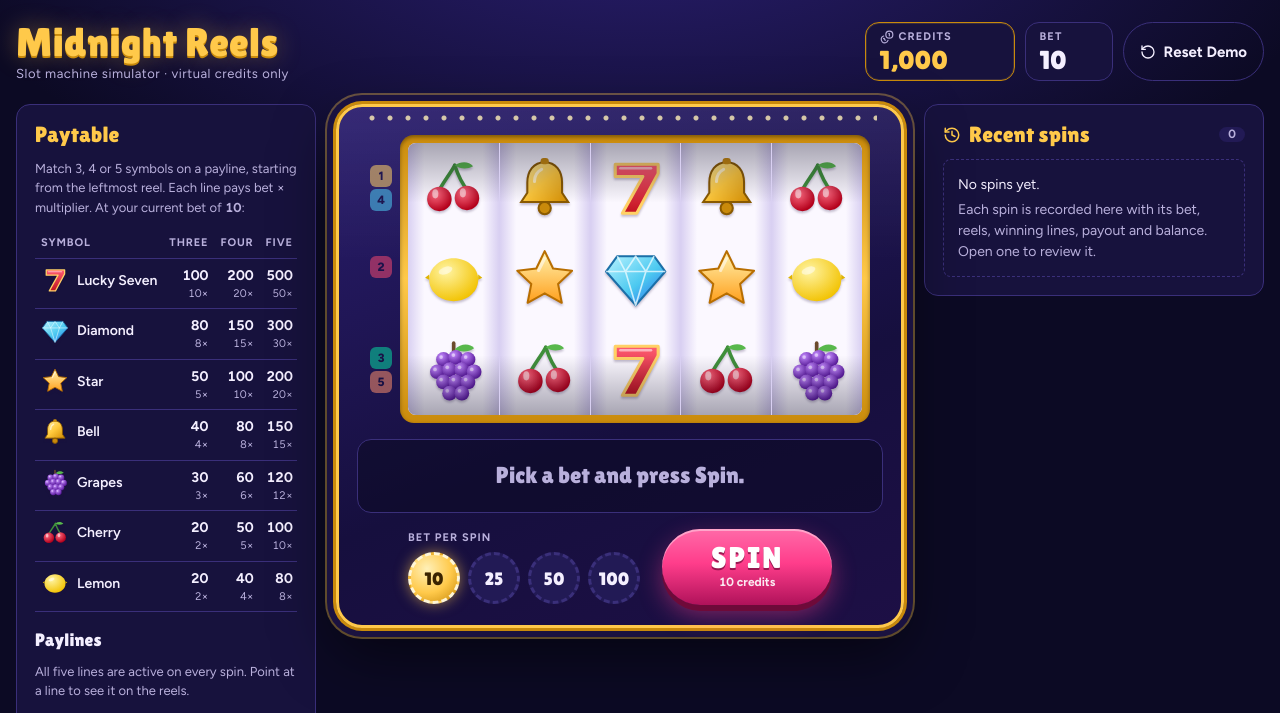
App › shows the loss message after a losing spin
What coordinates should you click on to do the following:
click the button "Spin 10 credits"
I would click on:
 (747, 567)
Its box is left=662, top=529, right=832, bottom=605.
Wait 3000 ms
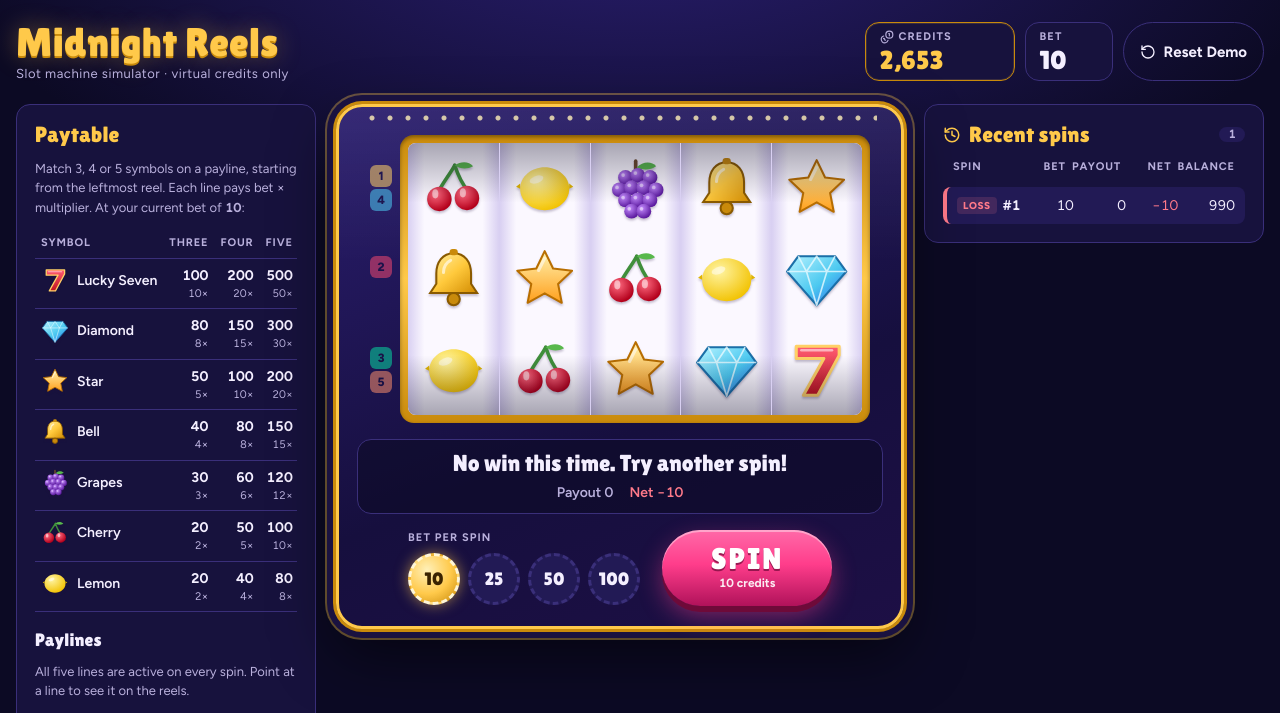
expect the message with test id "result-message" reads "No win this time. Try another spin!": met, box left=453, top=450, right=787, bottom=476
expect the text with test id "net-result" reads "Net −10": met, box left=629, top=482, right=683, bottom=503
